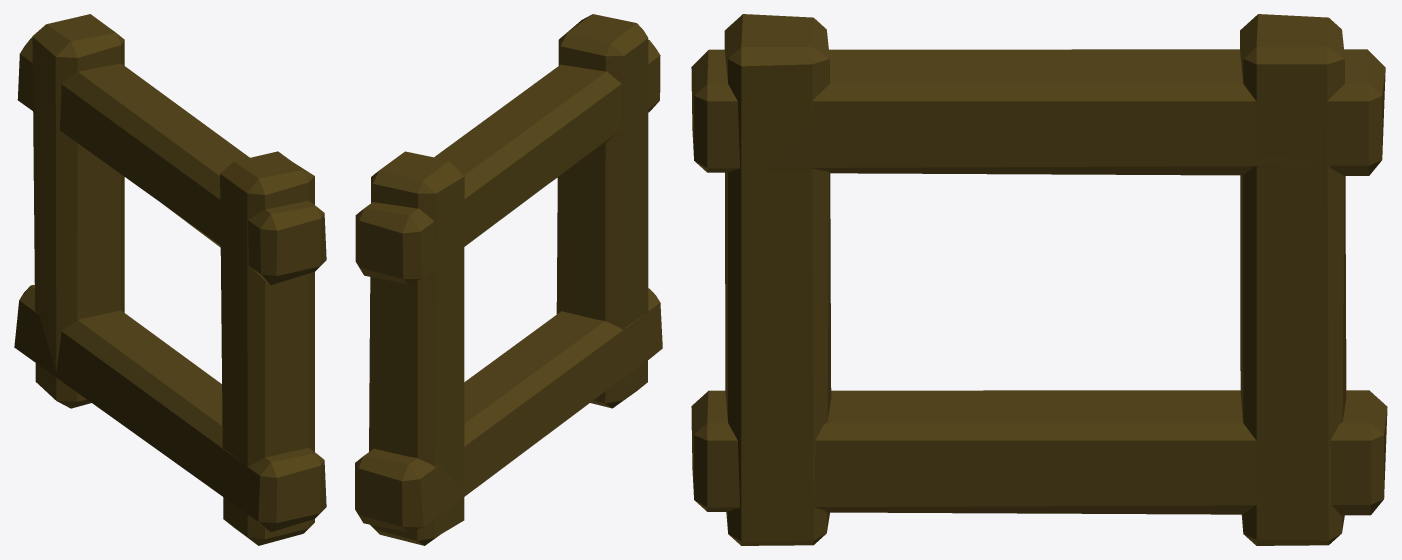
File: 3D_BUILD_WINDOW2.FBX
3 views of the same model, side by side, from view 1: azimuth 30°, elevation 25°; view 2: azimuth 150°, elevation 25°; view 3: azimuth 270°, elevation 25° (orthographic). The views are drawn at different scales.
Visible parts, largest first — view 1: Window2; view 2: Window2; view 3: Window2.
Part boxes in pixels (x1,y1,x2,y2): Window2: (14, 14, 326, 545); Window2: (355, 14, 662, 545); Window2: (691, 14, 1387, 545).
Bounding box in the file's own units: 25.83 × 127 × 159.
